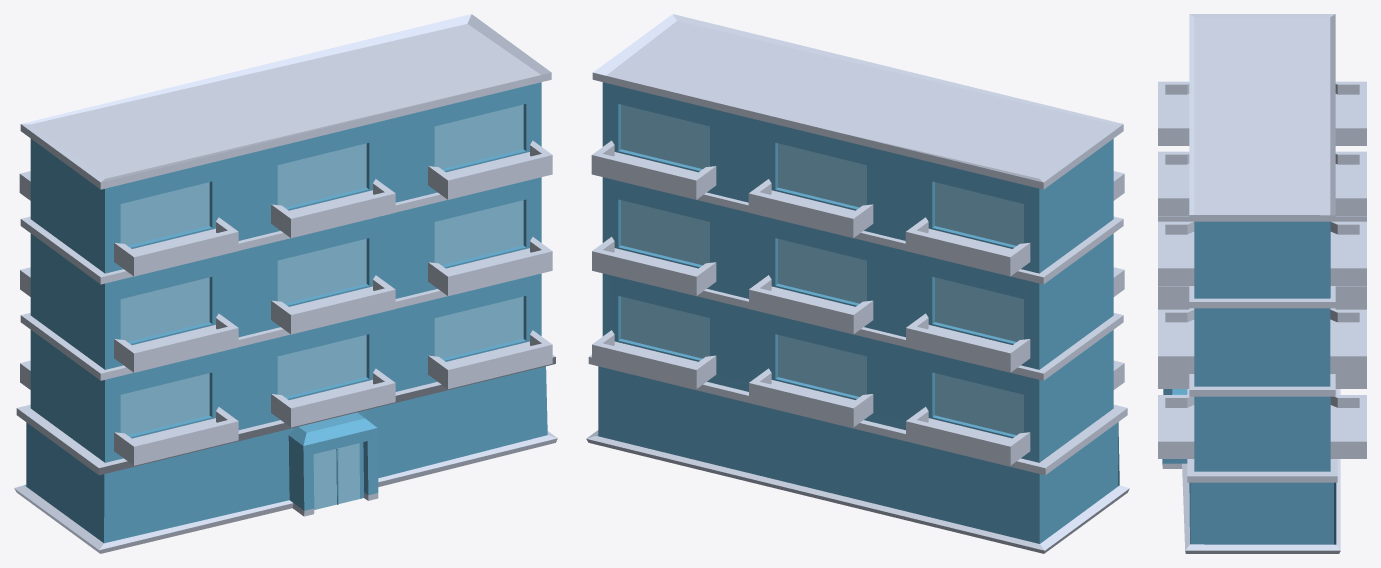
Rendered from hotelB.fbx.
The picture shows the model from 3 angles, left to right: view 1: azimuth 30°, elevation 25°; view 2: azimuth 150°, elevation 25°; view 3: azimuth 270°, elevation 25°; orthographic projection. The views are drawn at different scales.
Visible parts, largest first — view 1: HotelB; view 2: HotelB; view 3: HotelB.
Part boxes in pixels (x1=…): HotelB: x1=14, y1=14, x2=557, y2=553; HotelB: x1=586, y1=14, x2=1129, y2=553; HotelB: x1=1158, y1=14, x2=1366, y2=553.
Bounding box in the file's own units: 3357 × 2584 × 1448.
